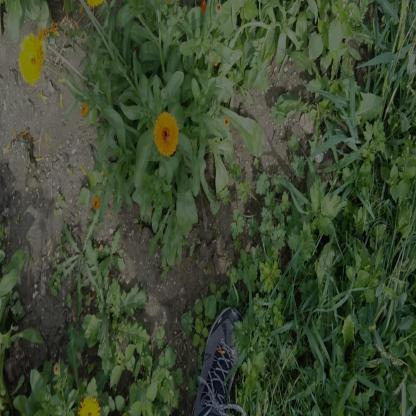marigold: (152, 109, 177, 157), (19, 36, 43, 86)
